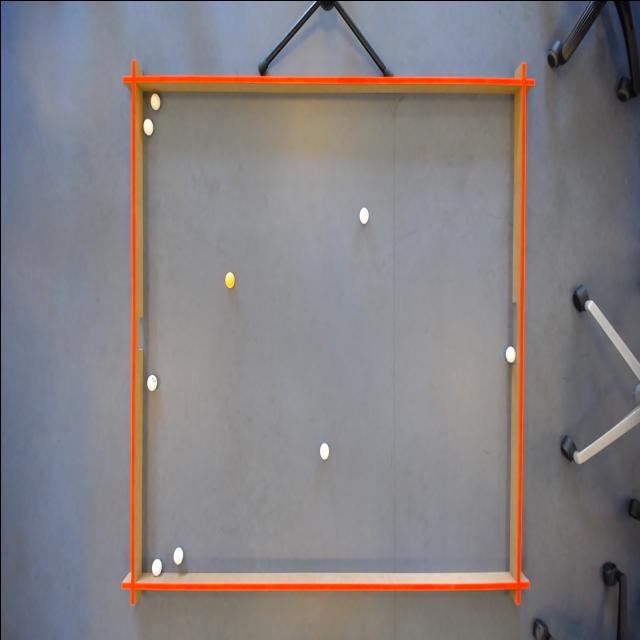orange_ball: (223, 270, 236, 290)
white_ball: (356, 201, 370, 225), (172, 544, 186, 568), (140, 115, 154, 138), (148, 90, 161, 114), (504, 341, 516, 364), (145, 370, 157, 393), (150, 556, 162, 578), (317, 440, 329, 461)
